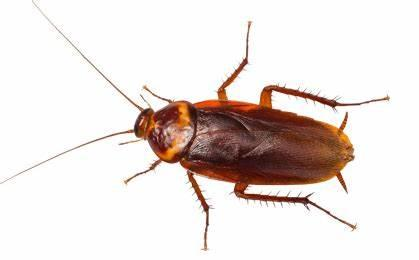cockroach: (127, 81, 357, 205)
